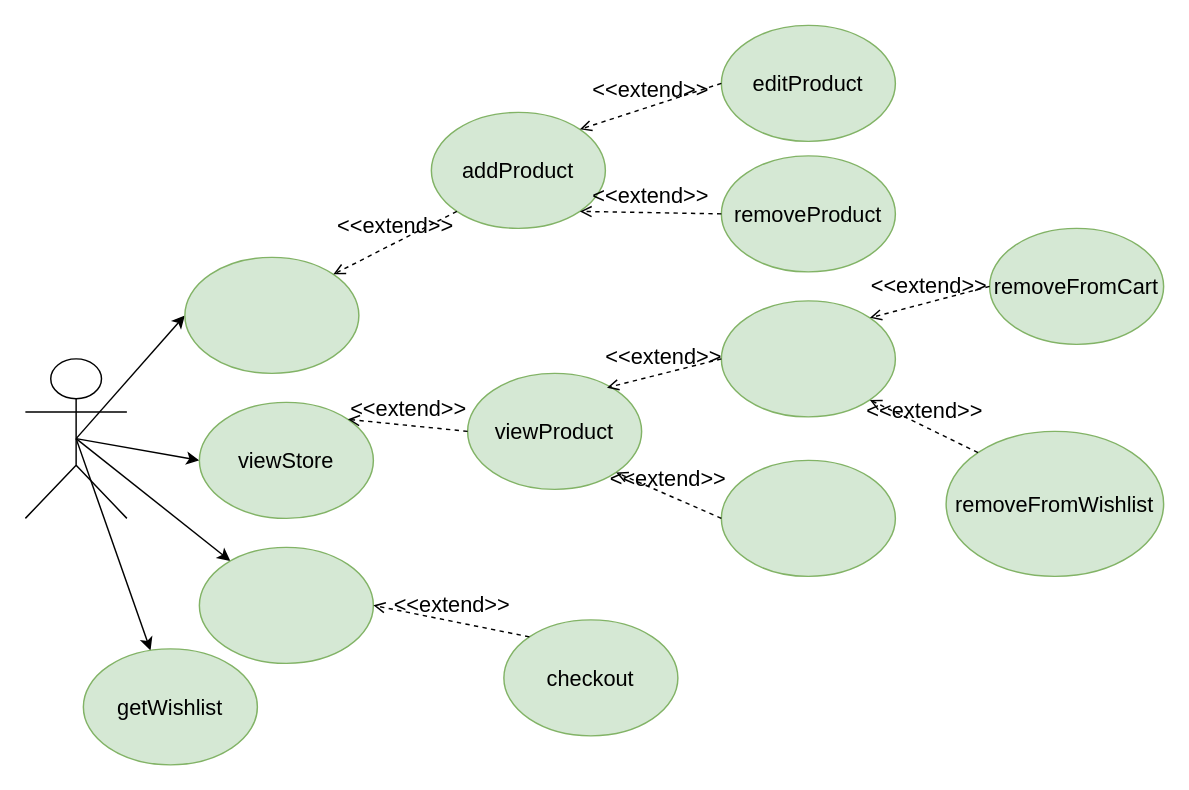
This 1189x790 diagram has some shape labels left out. The shapes that lost their labels are listed below. From the top down, each one's centre as x and y in pixels, then its label:
the point at 271,314: createStore
the point at 807,358: addToCart
the point at 75,437: User
the point at 807,517: addToWhislist
the point at 285,604: getCart
